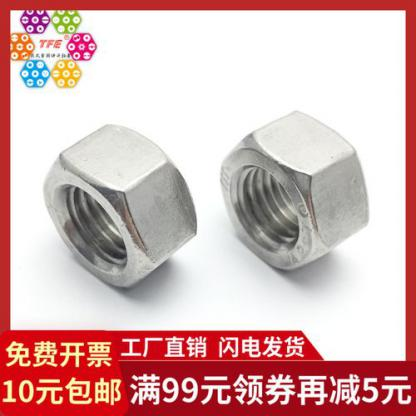FOD: (40, 121, 196, 290), (218, 107, 372, 272)
